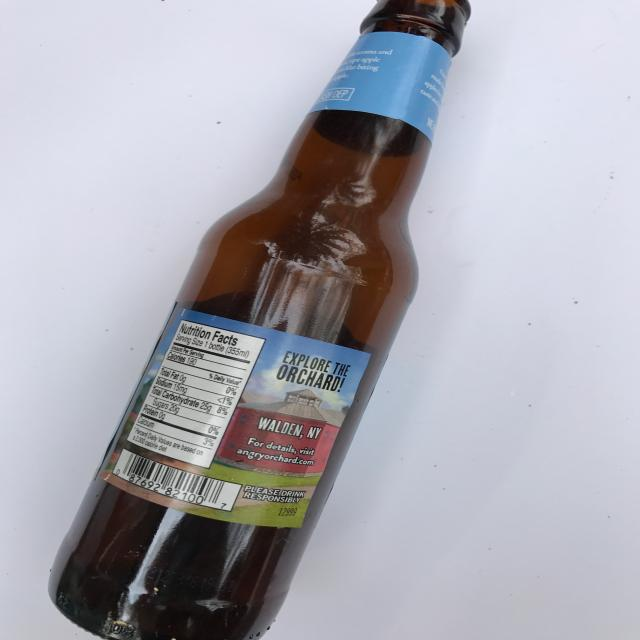glass: (47, 0, 471, 640)
